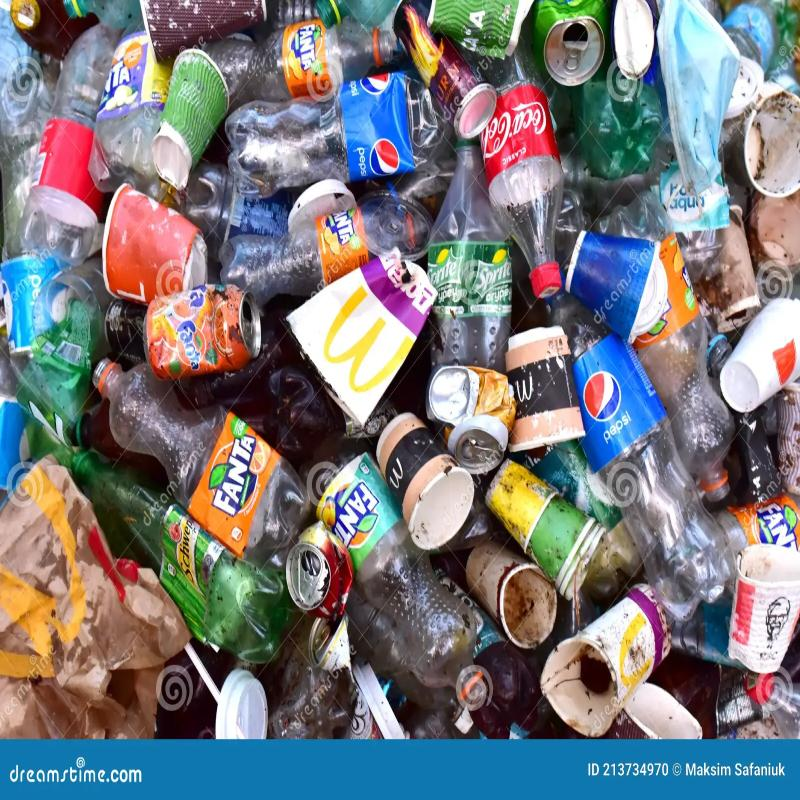botella: (554, 293, 742, 610), (74, 427, 280, 675), (94, 350, 317, 573), (314, 450, 487, 710), (624, 210, 750, 512), (21, 19, 147, 291), (468, 44, 582, 296), (1, 76, 81, 392), (223, 77, 447, 187), (216, 212, 443, 304), (428, 142, 514, 371), (674, 485, 800, 620), (209, 23, 400, 88), (189, 164, 316, 256), (102, 31, 159, 186)
